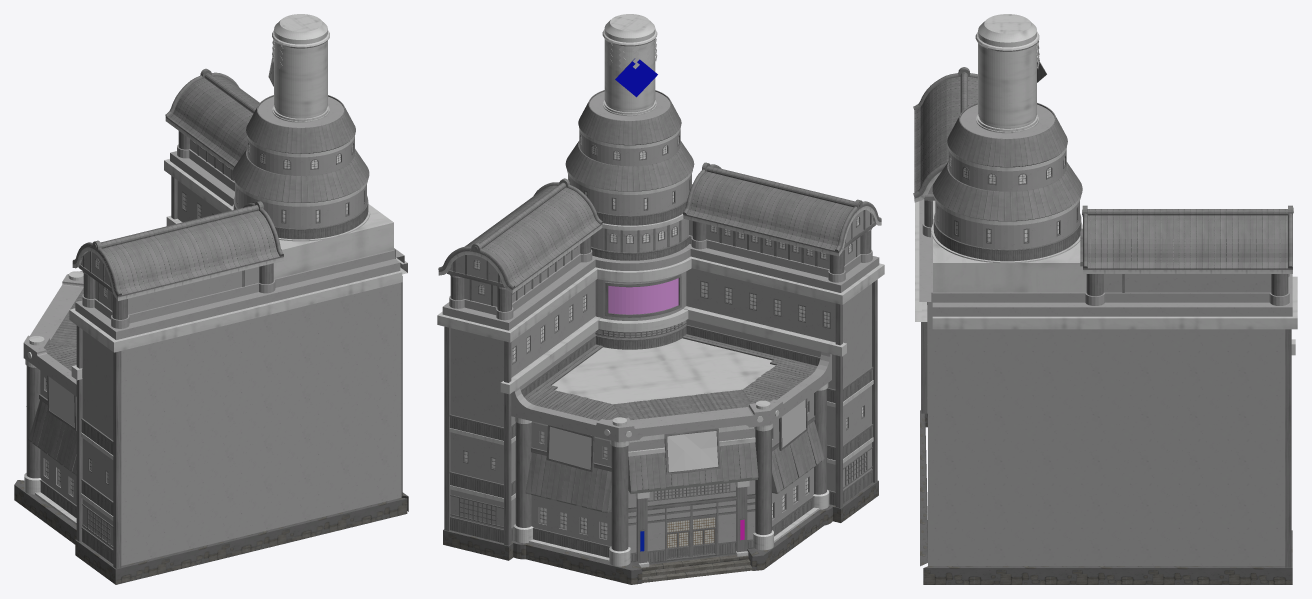
Rendered from SM_ENV_KNVLLG_AreaK_Building_A2.mo.fbx.
The picture shows the model from 3 angles, left to right: view 1: azimuth 30°, elevation 25°; view 2: azimuth 150°, elevation 25°; view 3: azimuth 270°, elevation 25°; orthographic projection. The views are drawn at different scales.
Visible parts, largest first — view 1: SM_ENV_KNVLLG_AreaK_Building_A2.mo; view 2: SM_ENV_KNVLLG_AreaK_Building_A2.mo; view 3: SM_ENV_KNVLLG_AreaK_Building_A2.mo.
Part boxes in pixels (left/top/right/bottom): SM_ENV_KNVLLG_AreaK_Building_A2.mo: left=14, top=14, right=408, bottom=584; SM_ENV_KNVLLG_AreaK_Building_A2.mo: left=437, top=14, right=884, bottom=584; SM_ENV_KNVLLG_AreaK_Building_A2.mo: left=913, top=14, right=1297, bottom=584.
Size of the model in its own units: 31.14 by 46.84 by 31.14.
